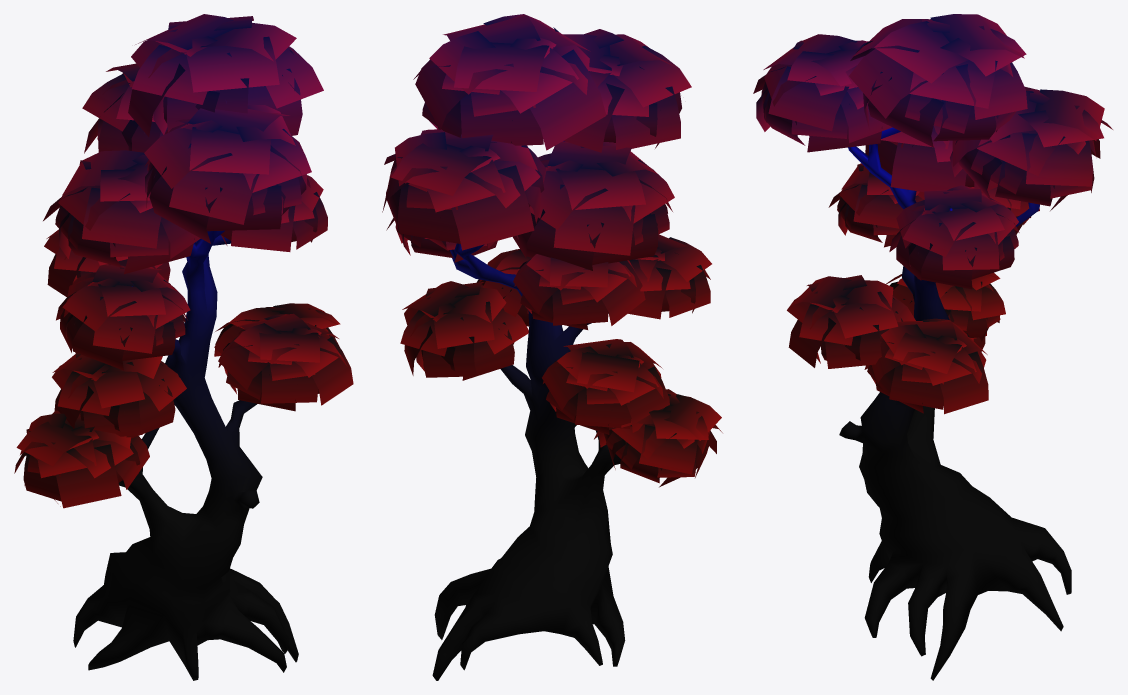
The model's file is tree1_B.fbx.
3 renders of one model, left to right at view 1: azimuth 30°, elevation 25°; view 2: azimuth 150°, elevation 25°; view 3: azimuth 270°, elevation 25°, orthographic. The views are drawn at different scales.
Parts seen in each view (by area): view 1: Tree_01_a_LOD0.001; view 2: Tree_01_a_LOD0.001; view 3: Tree_01_a_LOD0.001.
Part boxes in pixels (box(x1,y1,x2,y2)): Tree_01_a_LOD0.001: box(14, 14, 353, 680); Tree_01_a_LOD0.001: box(382, 14, 722, 680); Tree_01_a_LOD0.001: box(753, 14, 1112, 680).
Bounding box in the file's own units: 530 × 1036 × 549.
